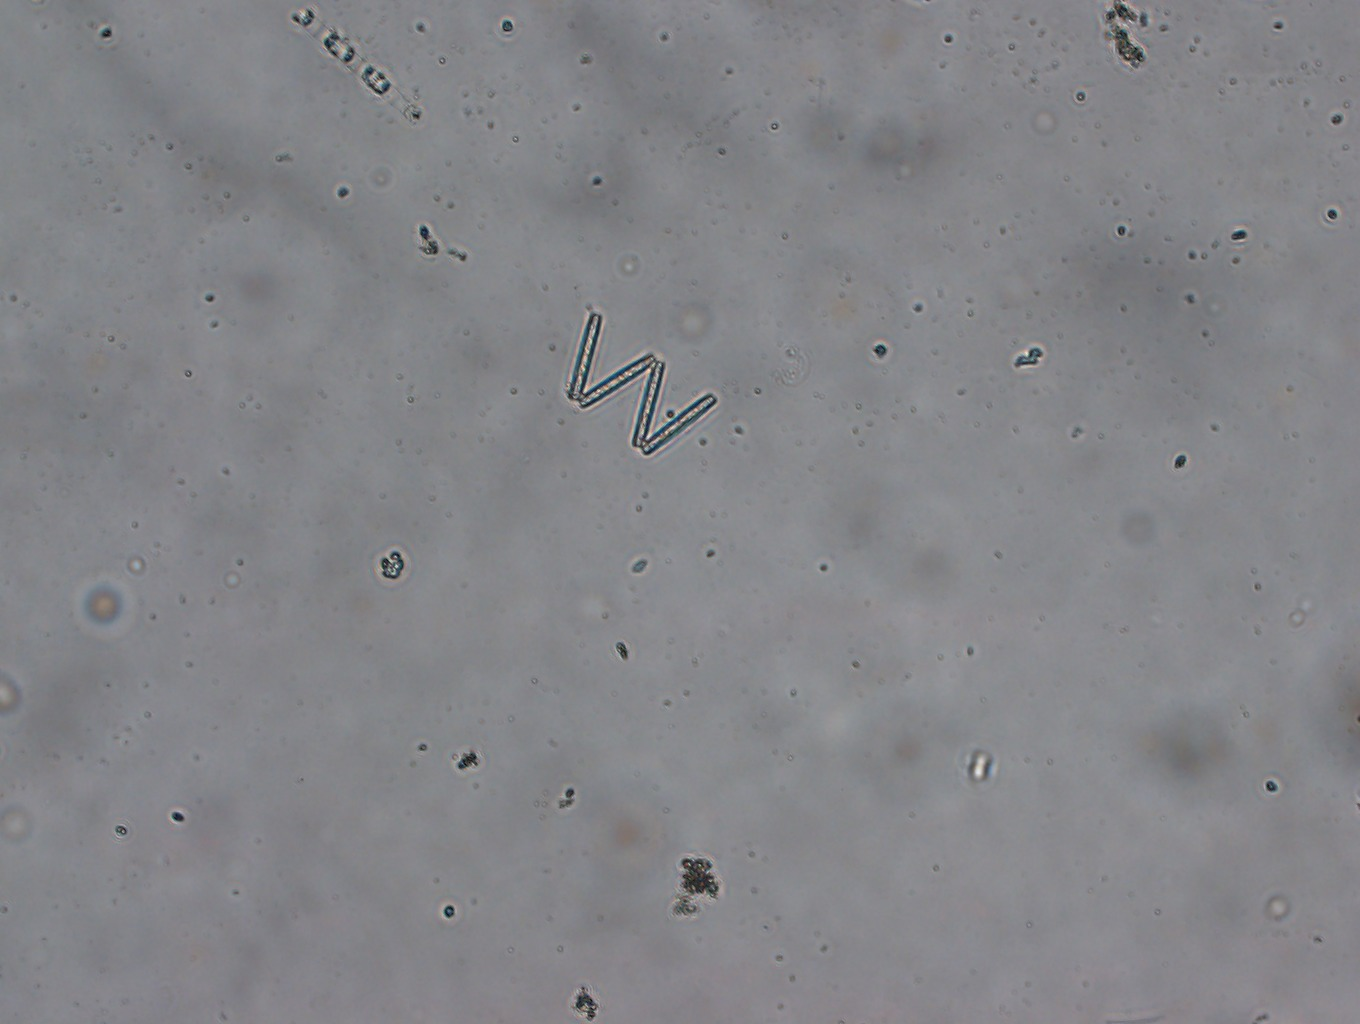skeletonema: (287, 3, 429, 127)
thalassionema nitzschioides: (569, 311, 717, 458)
